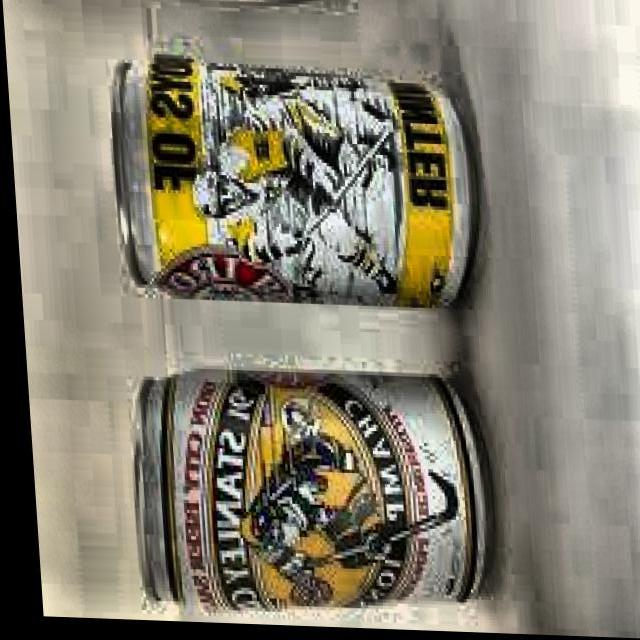Aluminum Can: (108, 347, 498, 626), (96, 54, 494, 321)
